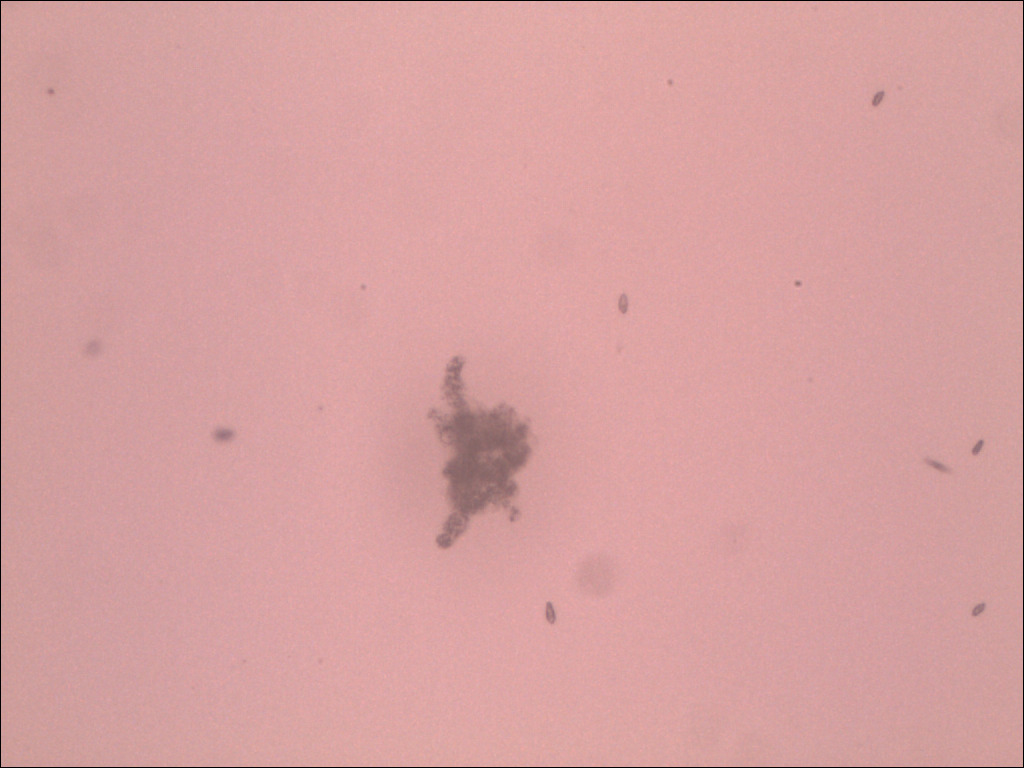amoeba: (412, 341, 553, 561)
